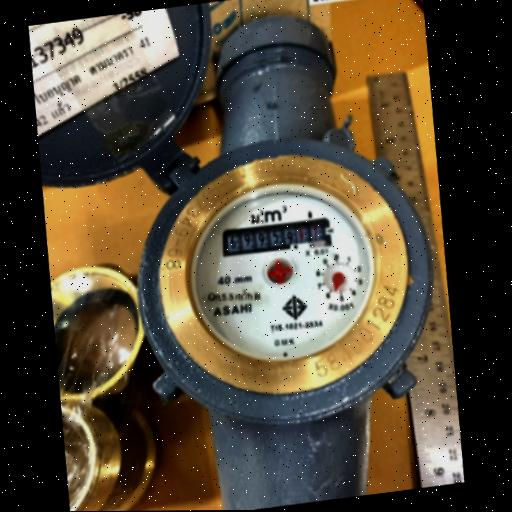5: (270, 227, 283, 247)
6: (227, 233, 240, 252)
7: (310, 223, 323, 242)
9: (242, 231, 255, 251), (256, 229, 269, 249), (284, 226, 296, 245), (296, 225, 308, 243)
border_water_meter_number: (222, 217, 333, 259)
